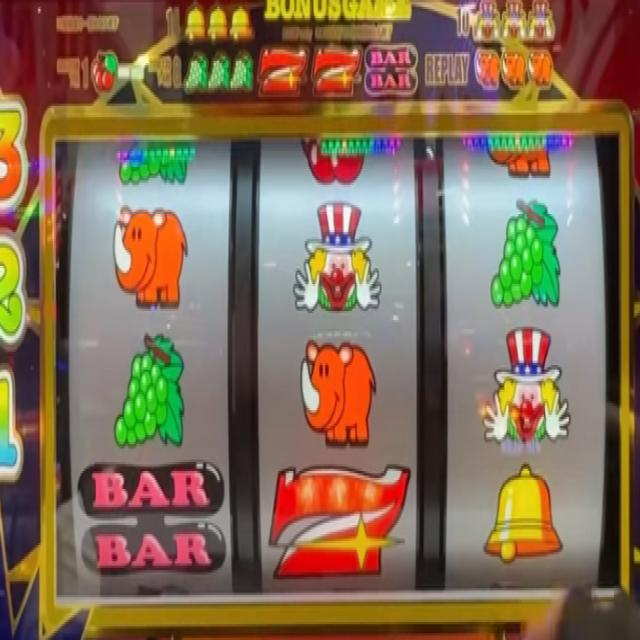bar: (76, 461, 227, 580), (363, 41, 419, 100)
bell: (482, 462, 564, 566), (231, 3, 254, 44), (184, 3, 207, 43), (208, 3, 228, 43)
cherry: (298, 133, 375, 188), (92, 50, 118, 94)
clown: (481, 325, 571, 446), (293, 199, 382, 318), (502, 0, 528, 44), (530, 0, 556, 42), (475, 0, 500, 41)
display: (52, 133, 620, 594)
elephant: (299, 336, 377, 448), (112, 202, 188, 313), (486, 137, 554, 179), (500, 46, 526, 92), (475, 48, 500, 92), (529, 48, 553, 90)
grape: (489, 195, 563, 317), (114, 329, 186, 453), (114, 142, 191, 189), (184, 53, 207, 96), (232, 53, 253, 99), (209, 50, 230, 94)
z: (266, 464, 410, 584), (258, 43, 308, 102), (312, 46, 362, 98)
